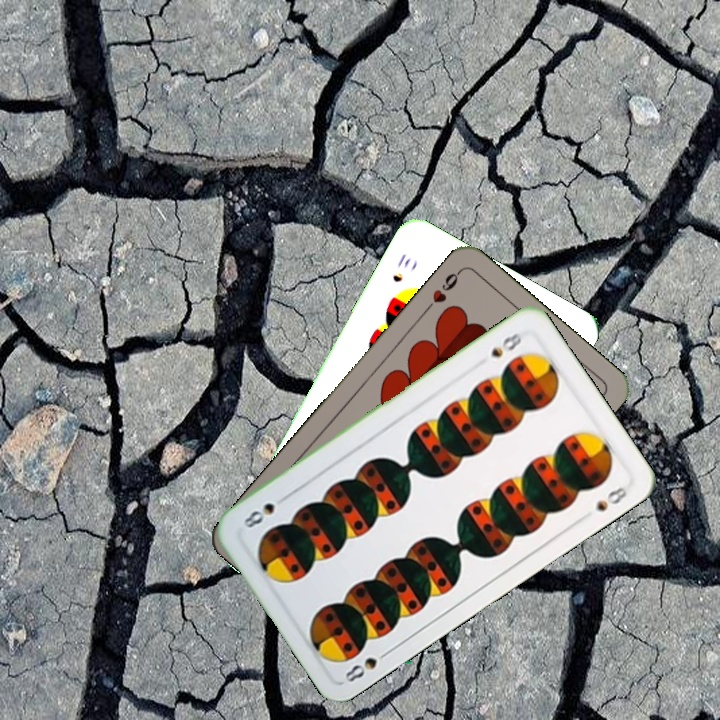H9: (420, 266, 464, 315)
S10: (388, 249, 414, 285)
S8: (340, 646, 394, 686), (487, 328, 525, 361)
